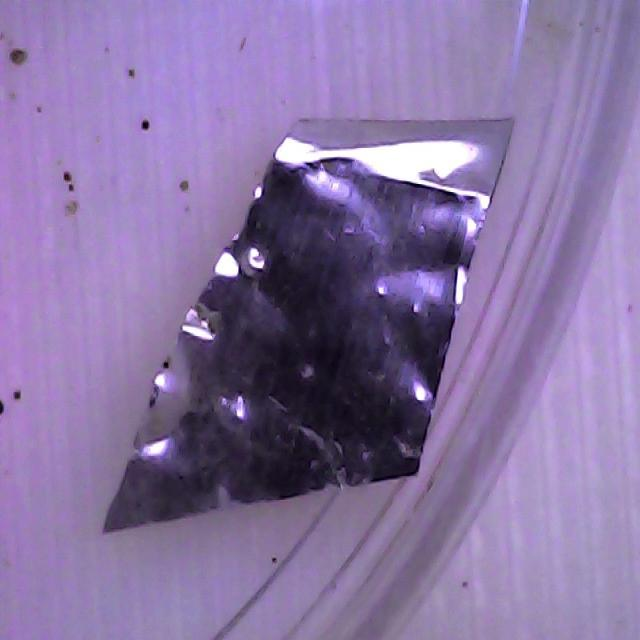fragments: (102, 43, 516, 608)
